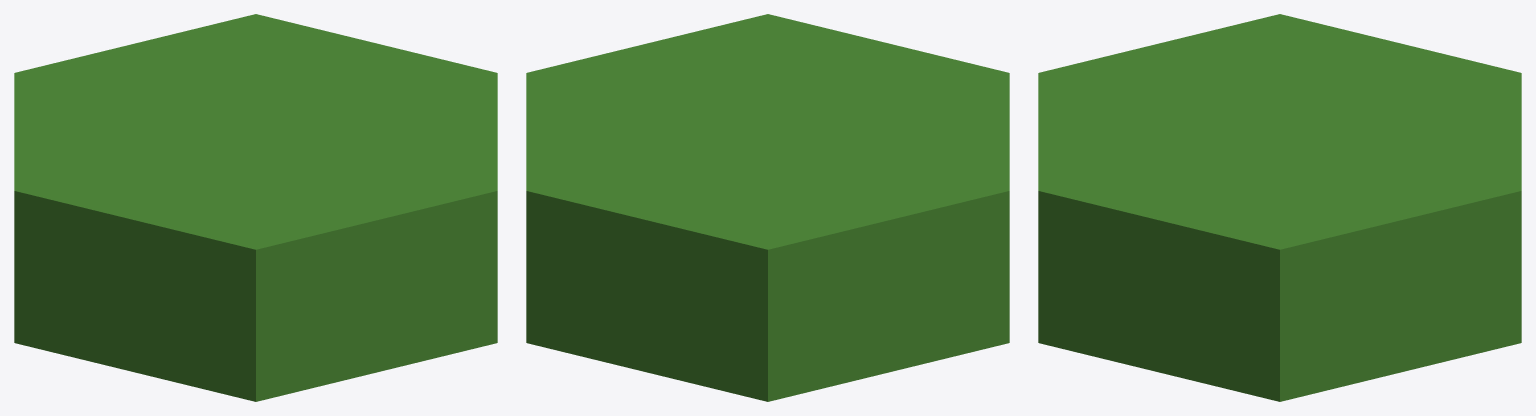
Rendered from HexagonalFloorPiece.fbx.
3 views of the same model, side by side, from view 1: azimuth 30°, elevation 25°; view 2: azimuth 150°, elevation 25°; view 3: azimuth 270°, elevation 25° (orthographic).
Parts seen in each view (by area): view 1: polySurface107; view 2: polySurface107; view 3: polySurface107.
Part boxes in pixels (x1=…): polySurface107: x1=14, y1=14, x2=497, y2=401; polySurface107: x1=526, y1=14, x2=1009, y2=401; polySurface107: x1=1038, y1=14, x2=1521, y2=401.
Bounding box in the file's own units: 2 × 0.6019 × 1.73.
